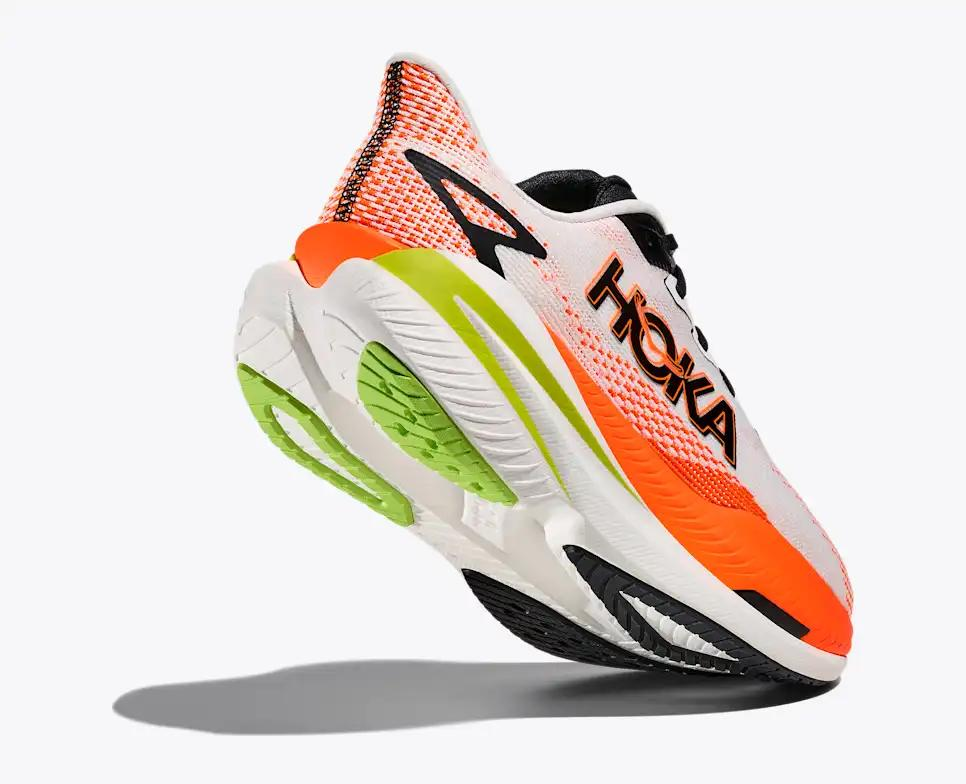hoka logo: (590, 250, 737, 464)
